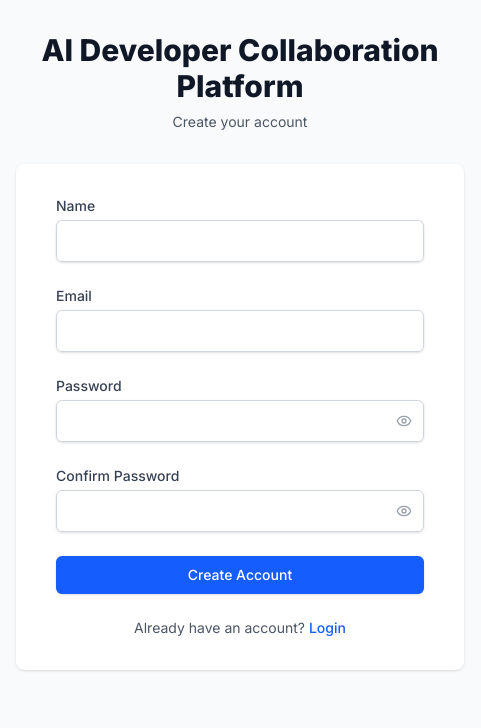
Scenario: Register Page › 3. validates email format
Type "invalid-email" into the field labelled "Email" at (240, 331), box [56,310,424,352]
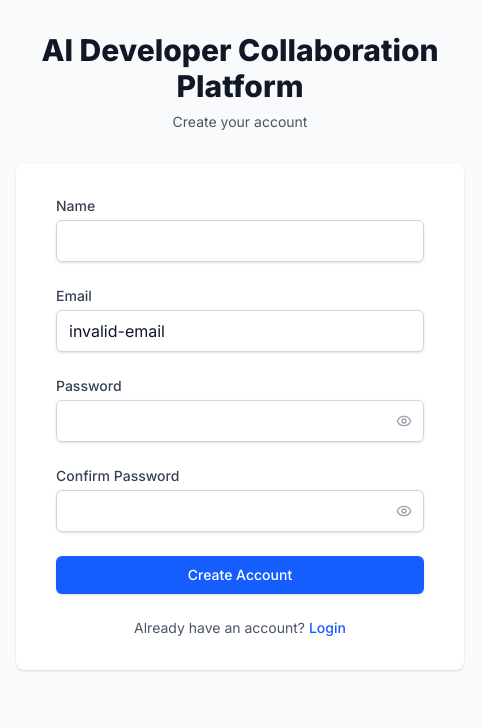
Click the button "Create Account" at (240, 575), box [56,556,424,594]
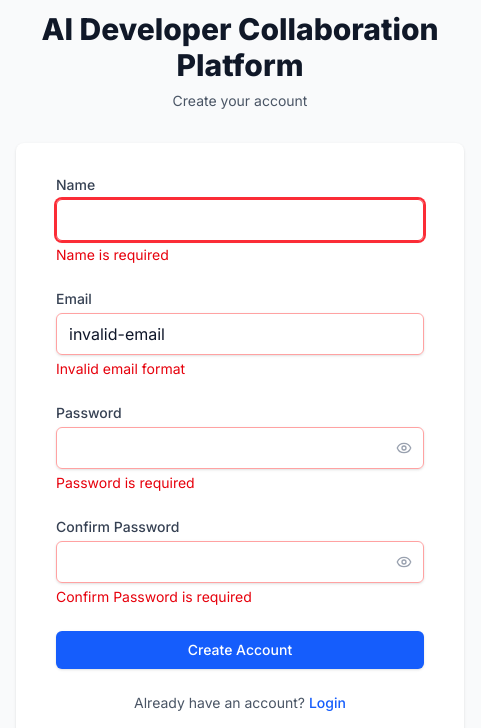
Expected: the text "Invalid email format" is shown, [56,360,185,377]
